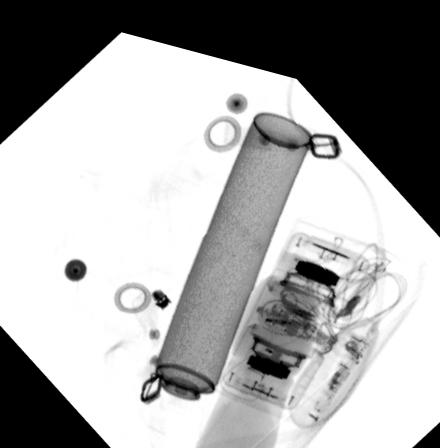Sprayer: (136, 94, 312, 434)
